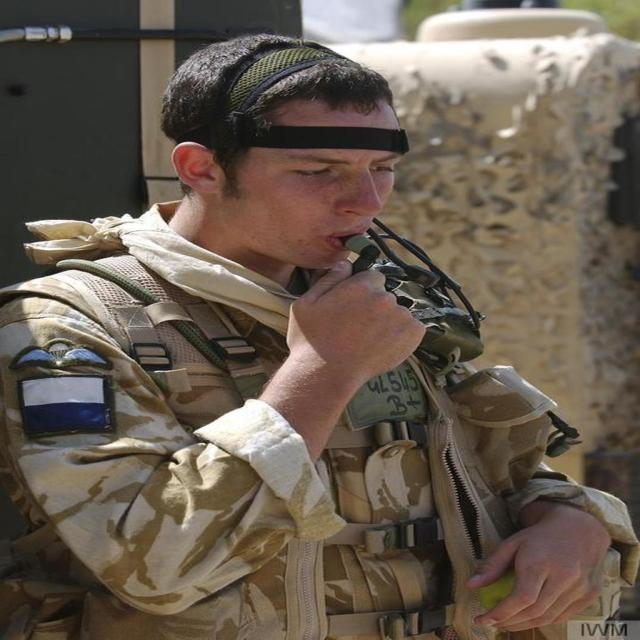Face: (222, 73, 409, 274)
